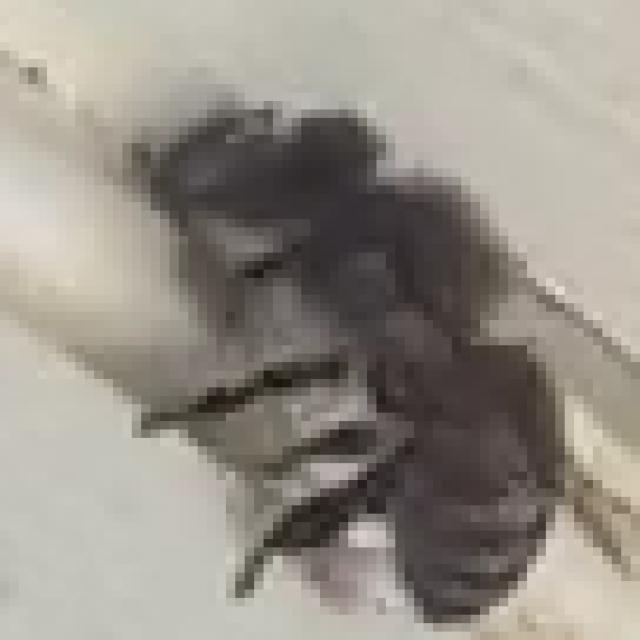honeybee: (152, 98, 540, 614)
